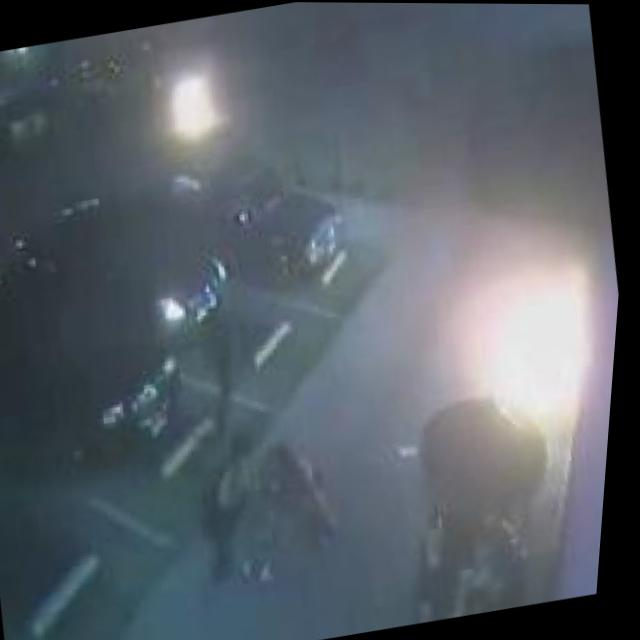fire: (444, 247, 626, 474), (151, 59, 239, 155)
